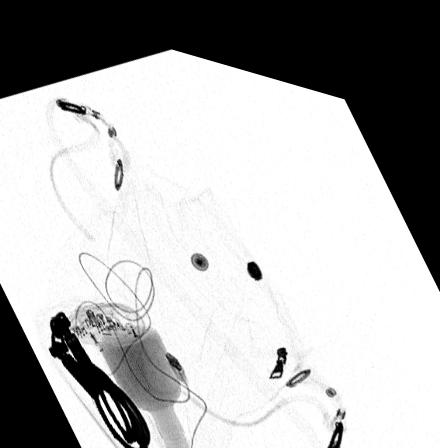HandCuffs: (46, 303, 152, 448)
